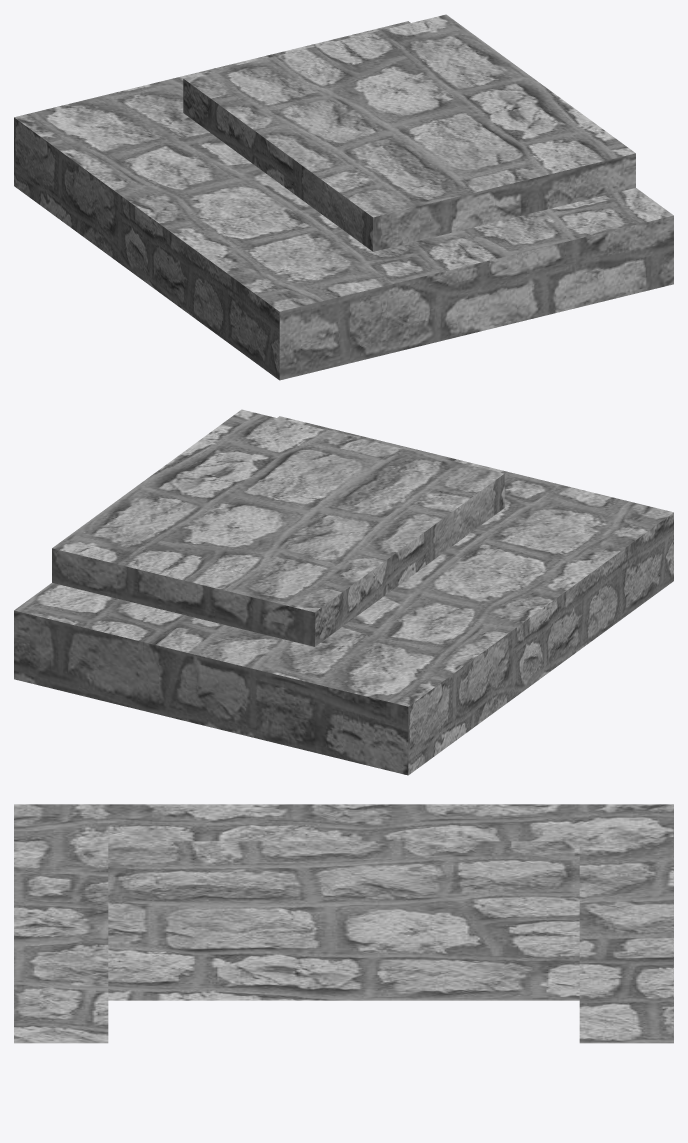
The model's file is test_collision_steps.glb.
The picture shows the model from 3 angles, top to bottom: view 1: azimuth 30°, elevation 25°; view 2: azimuth 150°, elevation 25°; view 3: azimuth 270°, elevation 25°; orthographic projection. The views are drawn at different scales.
Parts seen in each view (by area): view 1: FrontSteps_tcollider; view 2: FrontSteps_tcollider; view 3: FrontSteps_tcollider.
Boxes of the visible parts, x1,y1,x2,y2 form: FrontSteps_tcollider: [14, 14, 673, 380]; FrontSteps_tcollider: [14, 409, 673, 775]; FrontSteps_tcollider: [14, 804, 673, 1043].
Size of the model in its own units: 3 by 0.7501 by 3.5.
Materials: 1 (1 with a texture image).
